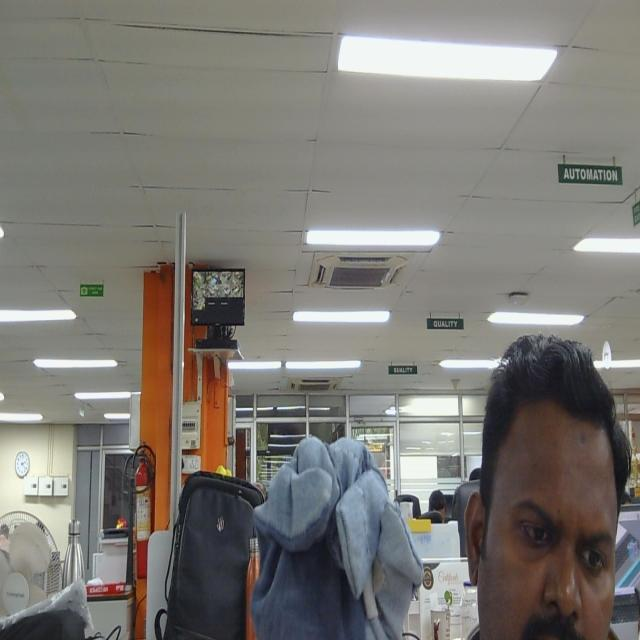Gloves-Detection: (249, 427, 424, 640)
